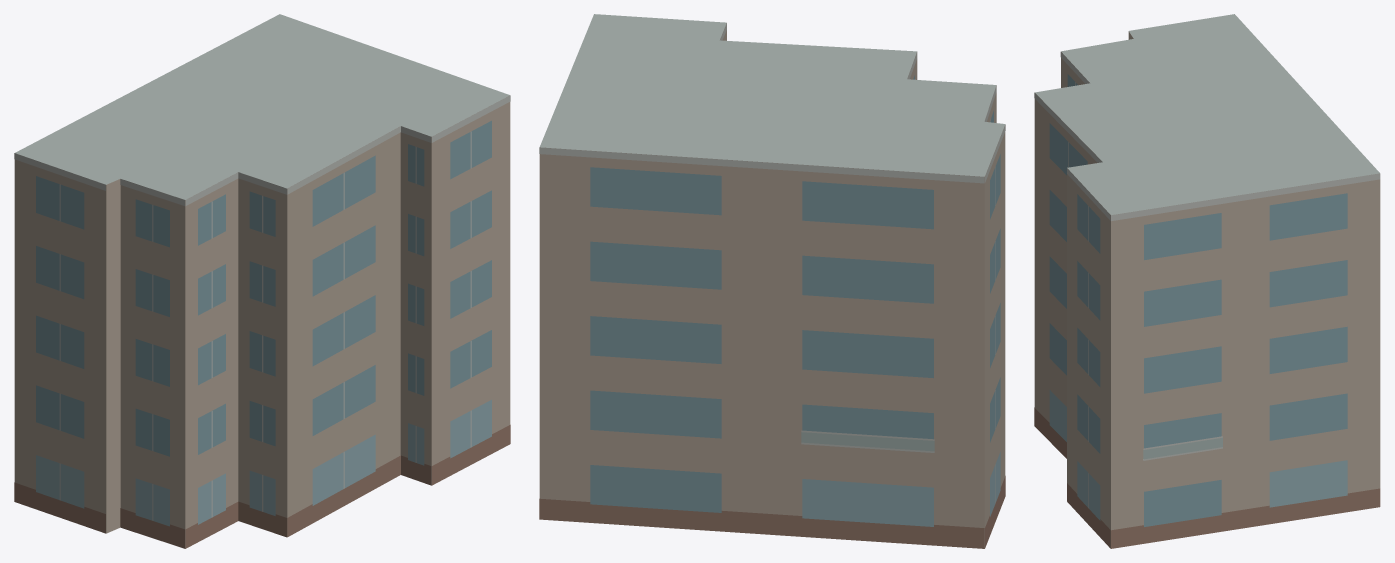
File: survey-upis-32863574.glb
3 renders of one model, left to right at view 1: azimuth 30°, elevation 25°; view 2: azimuth 150°, elevation 25°; view 3: azimuth 270°, elevation 25°, orthographic. The views are drawn at different scales.
Parts seen in each view (by area): view 1: survey-upis-32863574.tmp; view 2: survey-upis-32863574.tmp; view 3: survey-upis-32863574.tmp.
Part boxes in pixels (x1,y1,x2,y2): survey-upis-32863574.tmp: [14, 14, 510, 548]; survey-upis-32863574.tmp: [539, 14, 1005, 548]; survey-upis-32863574.tmp: [1034, 14, 1380, 548].
Bounding box in the file's own units: 17.51 × 13.53 × 12.72.
